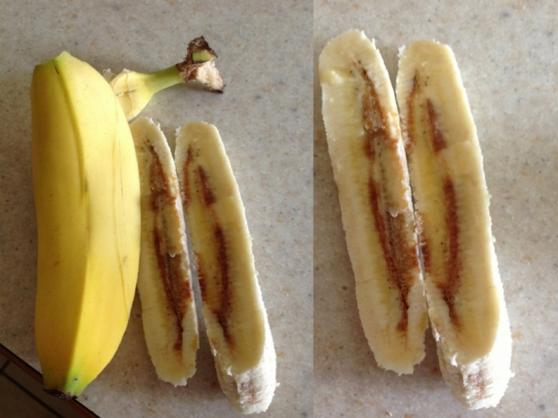banana: (27, 45, 156, 402)
